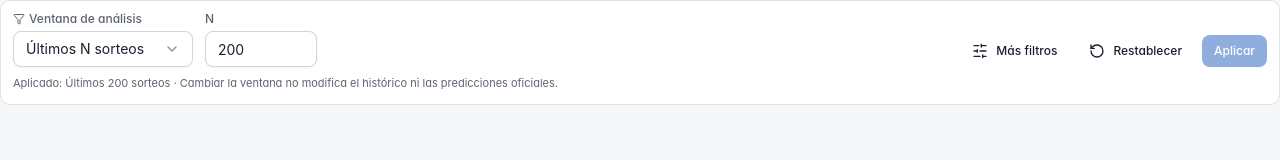
Test: <WindowFilter /> › deshabilita Aplicar cuando falta N
This screenshot has width=1280, height=160.
Clear the number field labelled "N" at (261, 49), box [205,31,317,67]
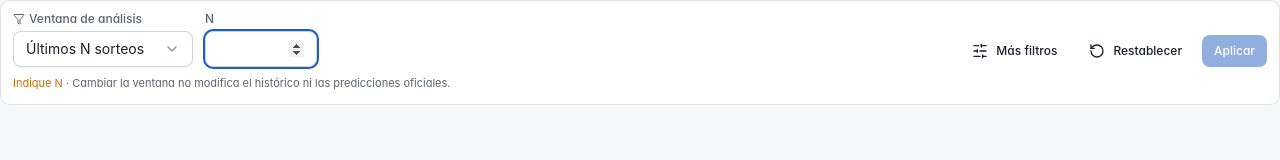
Expected: the button "Aplicar" is disabled, [1202,35,1267,67]
Expected: the text "Indique N" is shown, [13,76,63,90]
